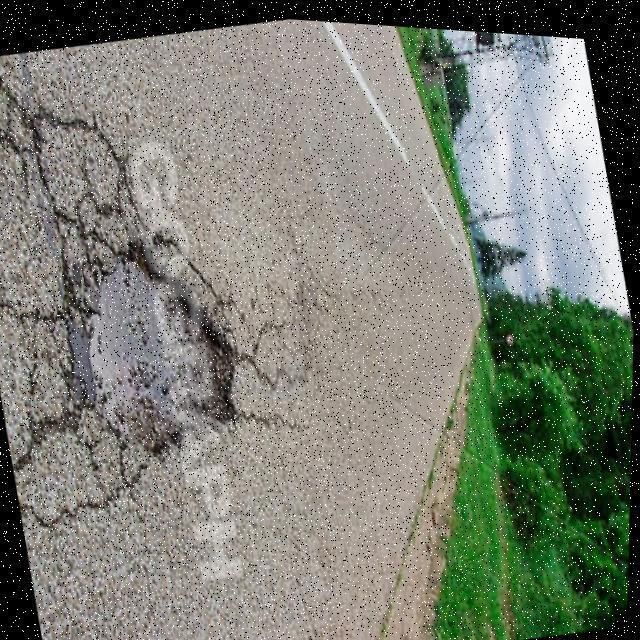Pothole: (57, 239, 246, 463)
